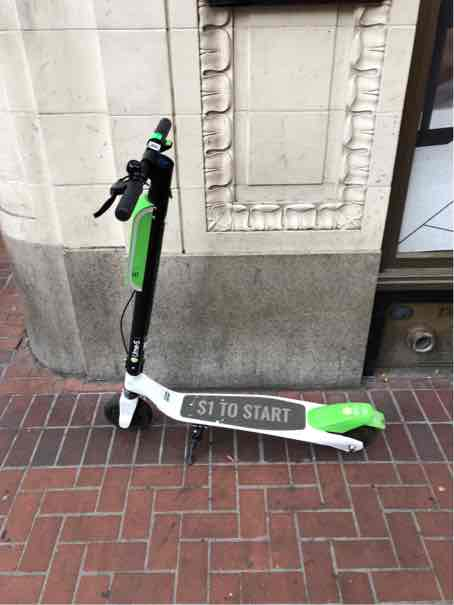scooter: (78, 112, 395, 473)
